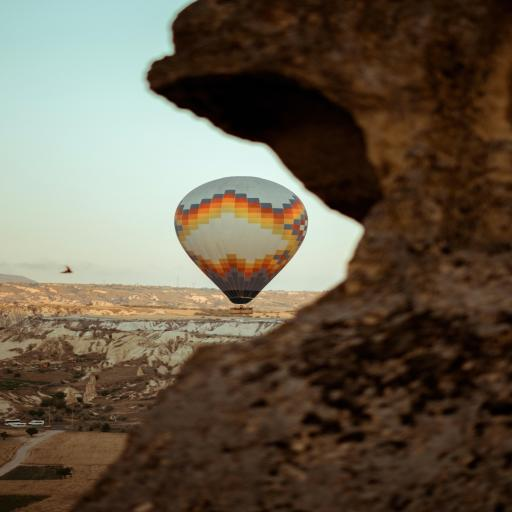hot air ballon: (172, 176, 308, 314)
